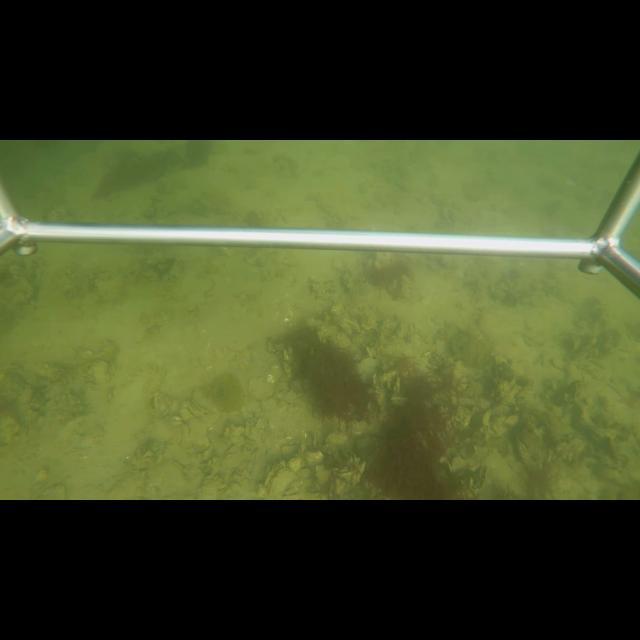Oyster-Closed: (265, 466, 302, 498)
